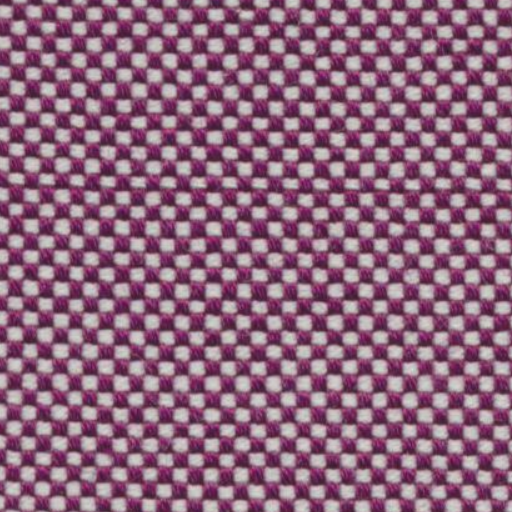TuoSha: (16, 148, 496, 222)
